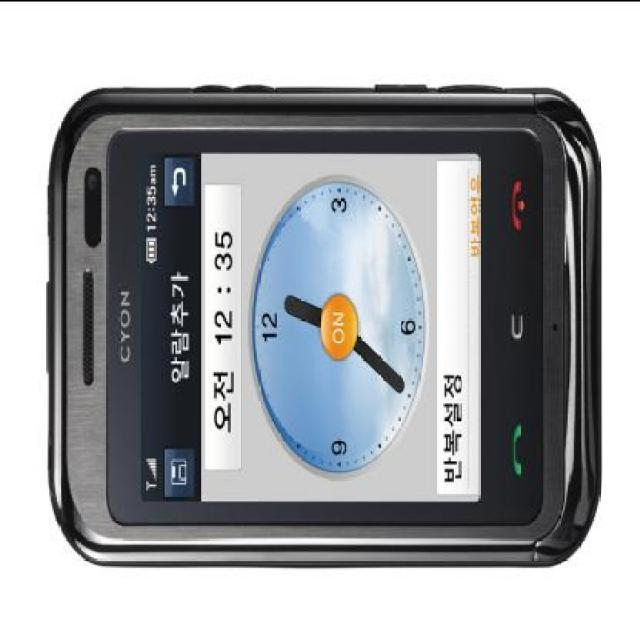phone: (47, 84, 599, 568)
